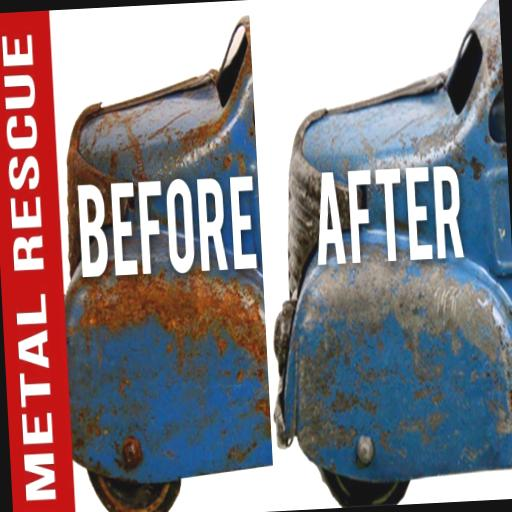segmentation: (66, 261, 268, 491), (0, 10, 81, 505), (66, 38, 258, 187), (471, 157, 483, 180)
